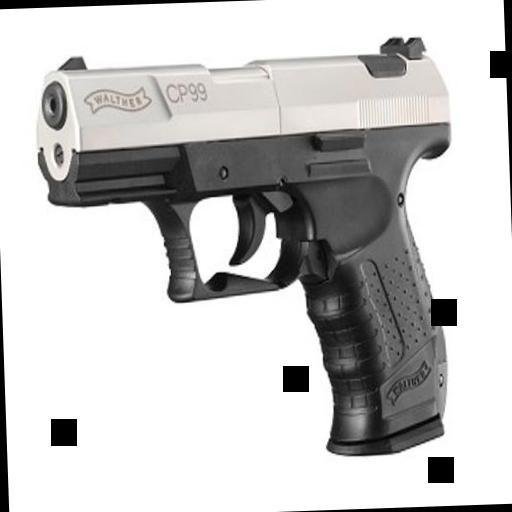Handgun: (31, 34, 463, 468)
